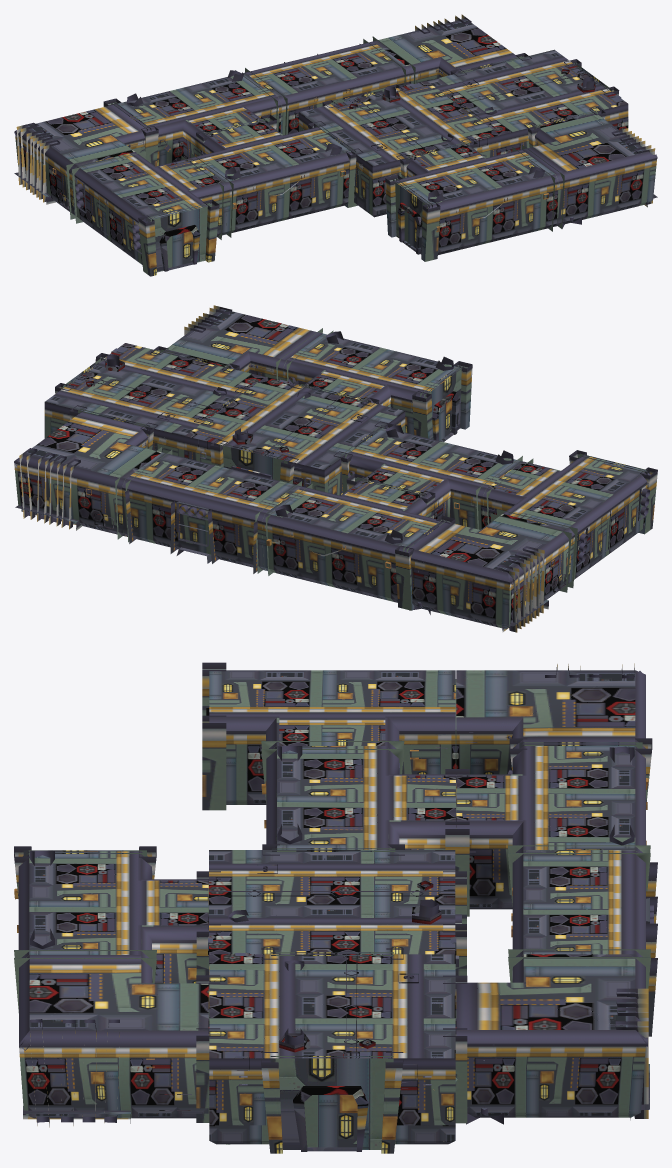
The model's file is Combined_Mesh_root_scene__1_e4e4d5ea__zombies2_diffuse_07_65562b6b_c1f257.obj.
The picture shows the model from 3 angles, top to bottom: view 1: azimuth 30°, elevation 25°; view 2: azimuth 150°, elevation 25°; view 3: azimuth 270°, elevation 25°; orthographic projection. The views are drawn at different scales.
Size of the model in its own units: 77.02 by 9.64 by 52.3.
Materials: 159 (159 with a texture image).
